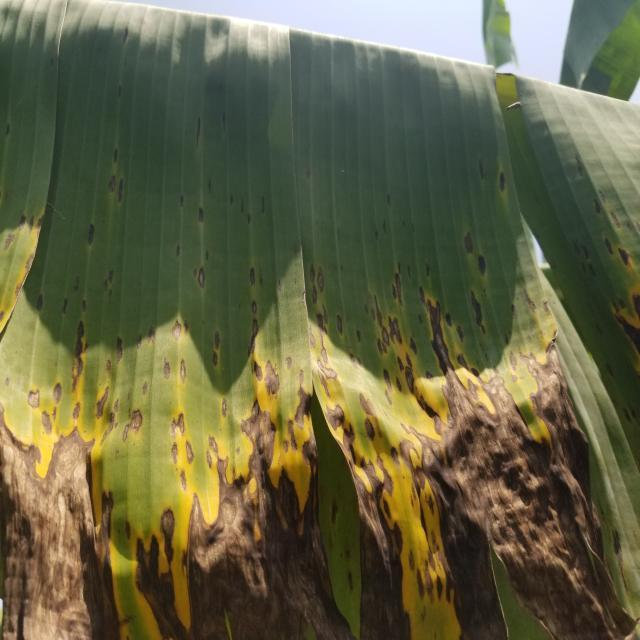Early_rust: (0, 54, 640, 624)
